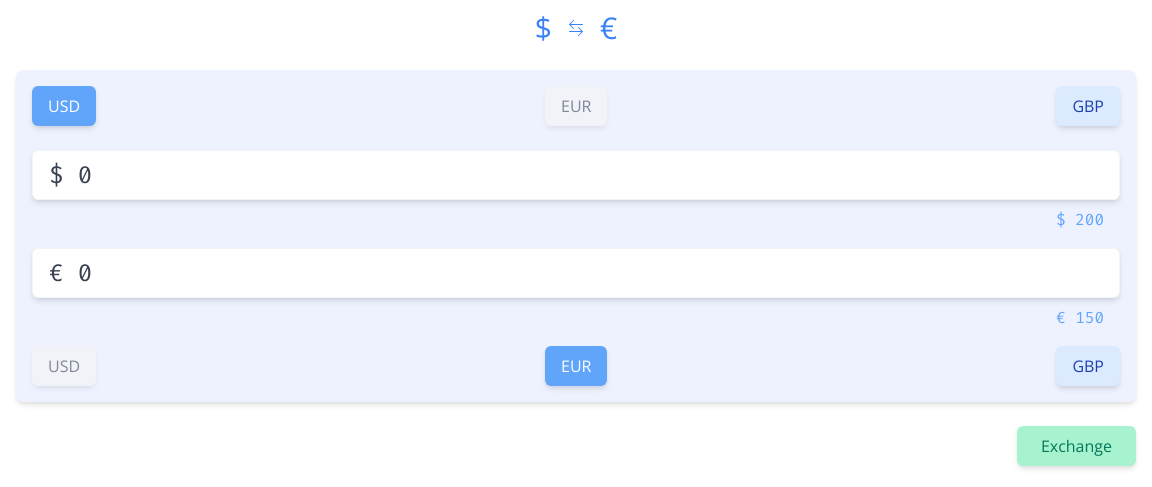
Scenario: Exchange › should exchange 1 USD with 2 EUR
The width and height of the screenshot is (1152, 487).
Replace the text in the 1st field with "1" at (576, 175), box [32,150,1120,200]
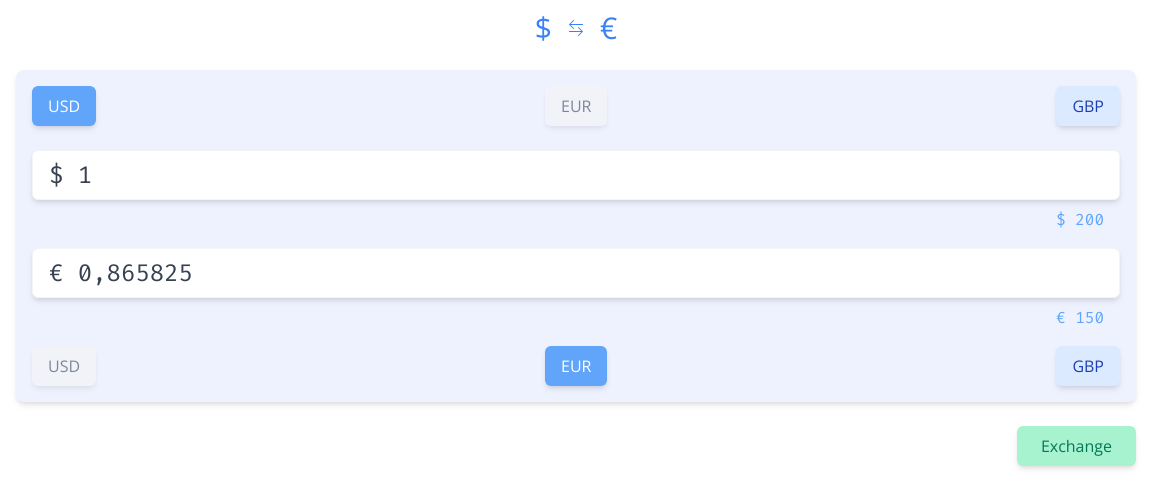
Click the button with class "submit" at (1076, 446), box [1017,426,1136,466]
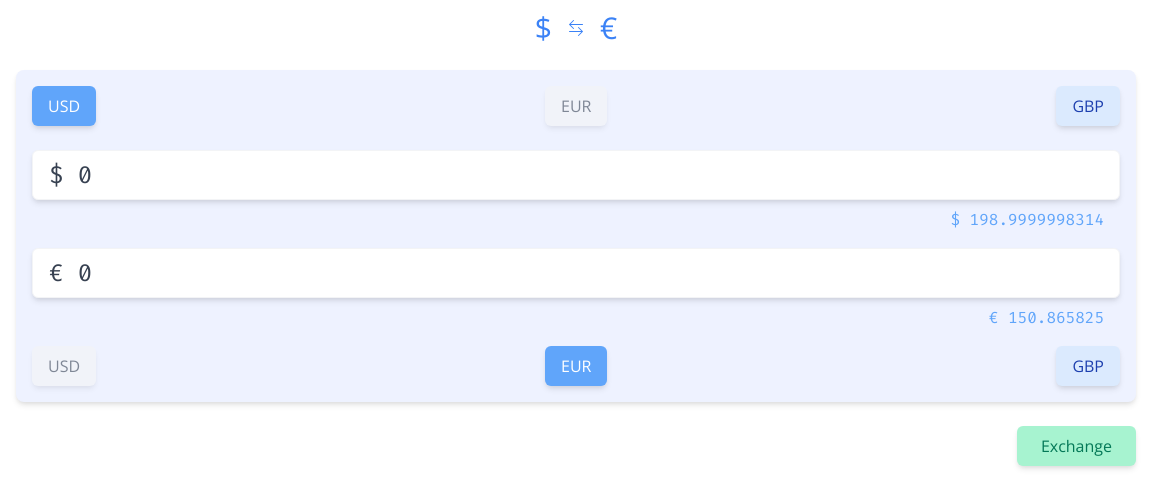
Check: the text with class "balance" reads "$ 198.9999998314", box [950,209,1104,230]
Check: the text with class "balance" reads "€ 150.865825", box [989,307,1104,328]
